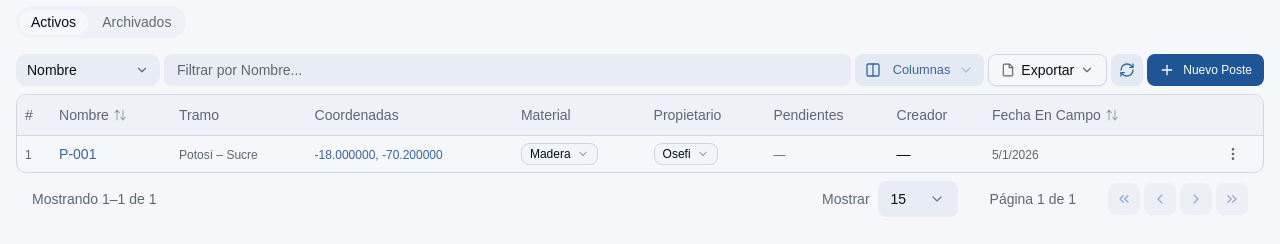
Test: when the lists are refused › says so inside the menu instead of opening it empty
Click the button titled "Click para cambiar material": {"x": 559, "y": 154} x1=521 y1=142 x2=598 y2=164
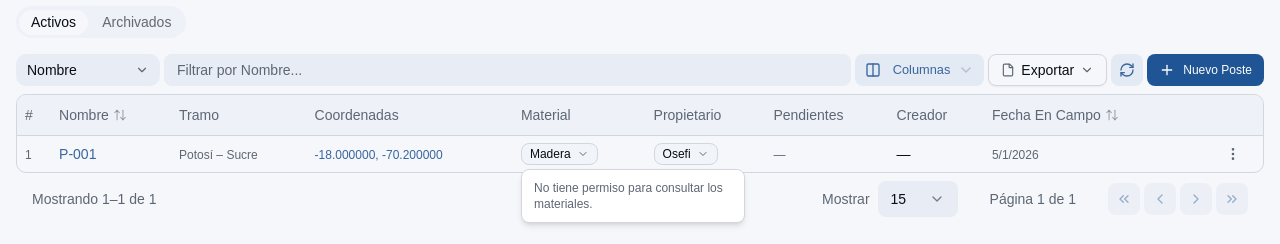
Now the text "No tiene permiso para consultar los materiales." is shown, box x1=526 y1=174 x2=740 y2=218
